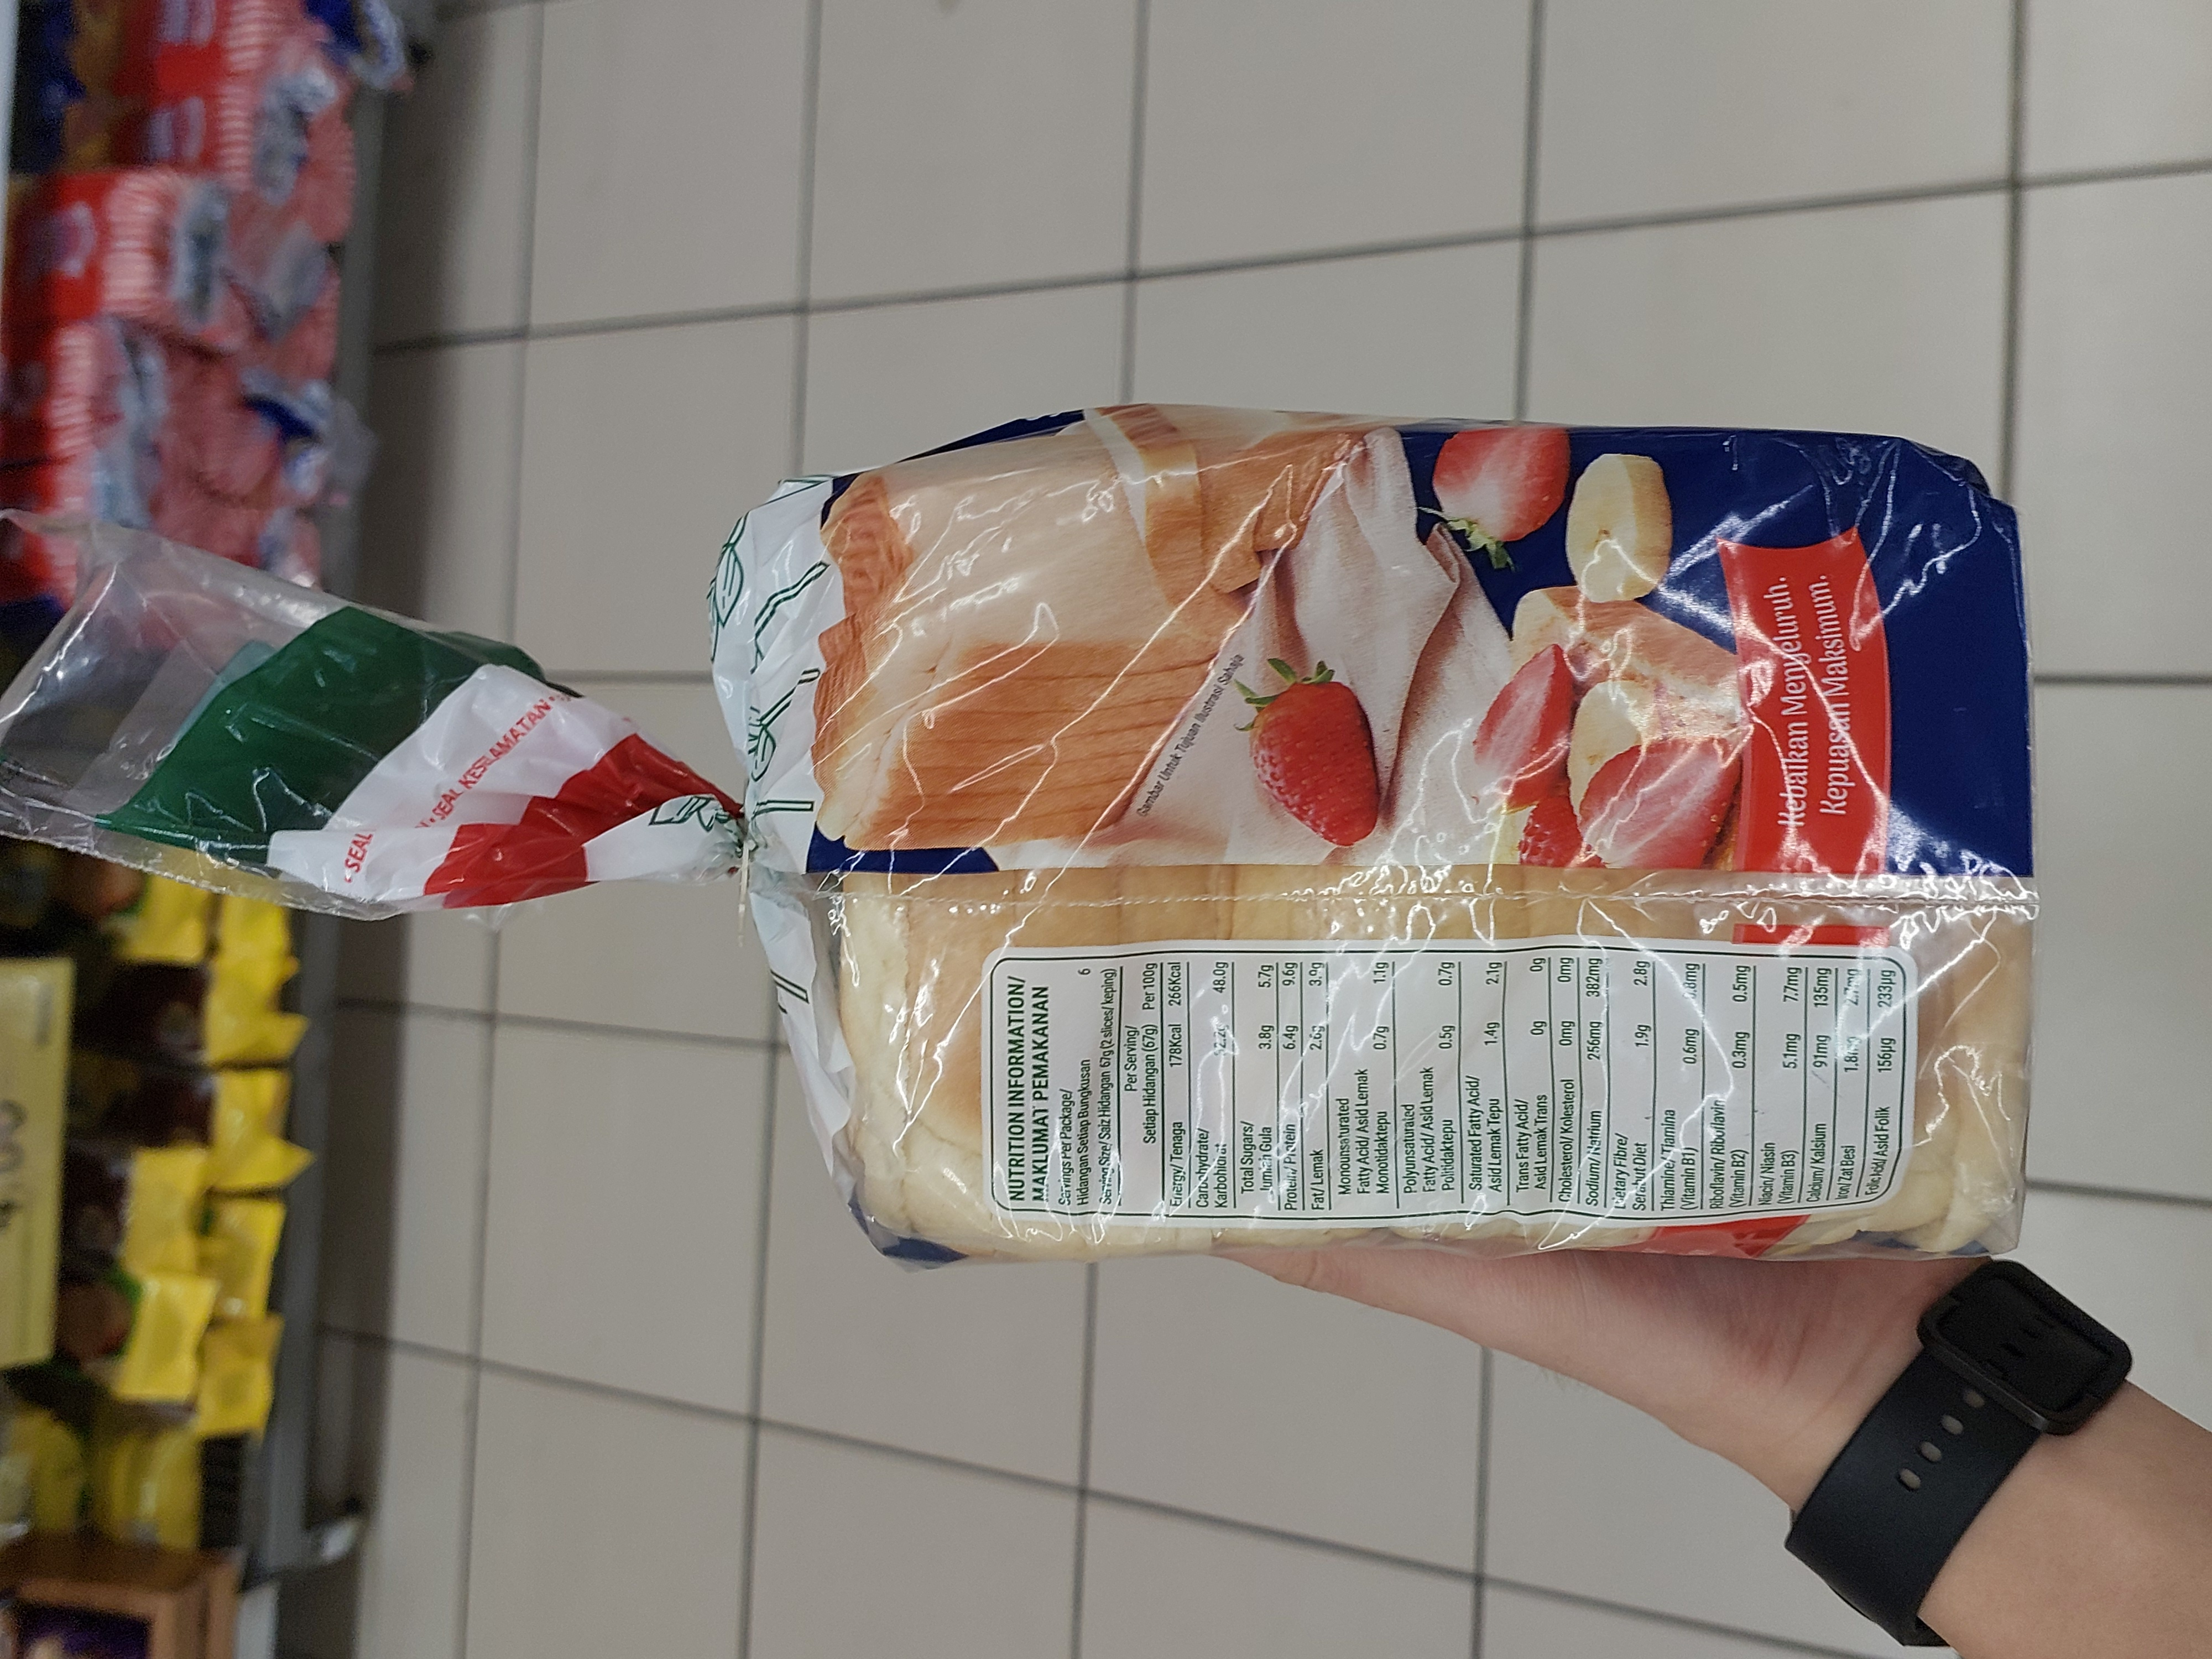bread: (284, 401, 2043, 1276)
